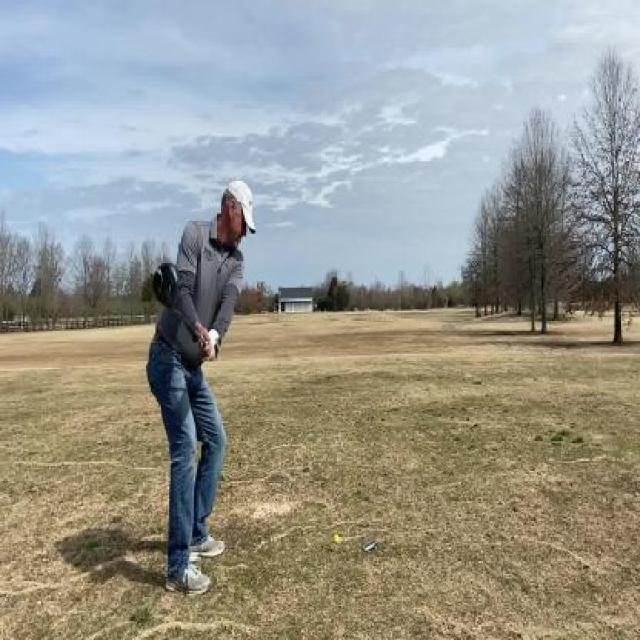club head: (152, 260, 180, 314)
